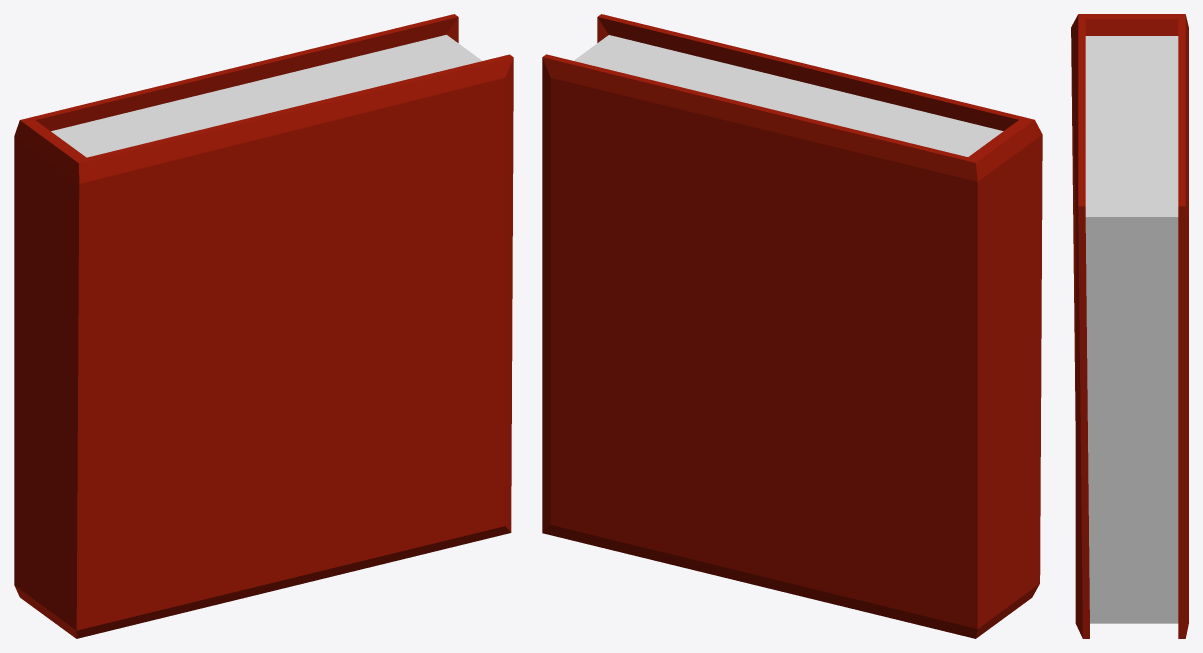
File: Book.fbx
3 renders of one model, left to right at view 1: azimuth 30°, elevation 25°; view 2: azimuth 150°, elevation 25°; view 3: azimuth 270°, elevation 25°, orthographic. The views are drawn at different scales.
Visible parts, largest first — view 1: Cube, Cube.001; view 2: Cube, Cube.001; view 3: Cube.001, Cube.
Part boxes in pixels (bbox=[...]): Cube: bbox=[14, 14, 513, 638]; Cube.001: bbox=[51, 34, 481, 157]; Cube: bbox=[542, 14, 1042, 638]; Cube.001: bbox=[573, 35, 1003, 156]; Cube.001: bbox=[1085, 36, 1178, 623]; Cube: bbox=[1071, 14, 1188, 638].
Bounding box in the file's own units: 205 × 213 × 52.57.
